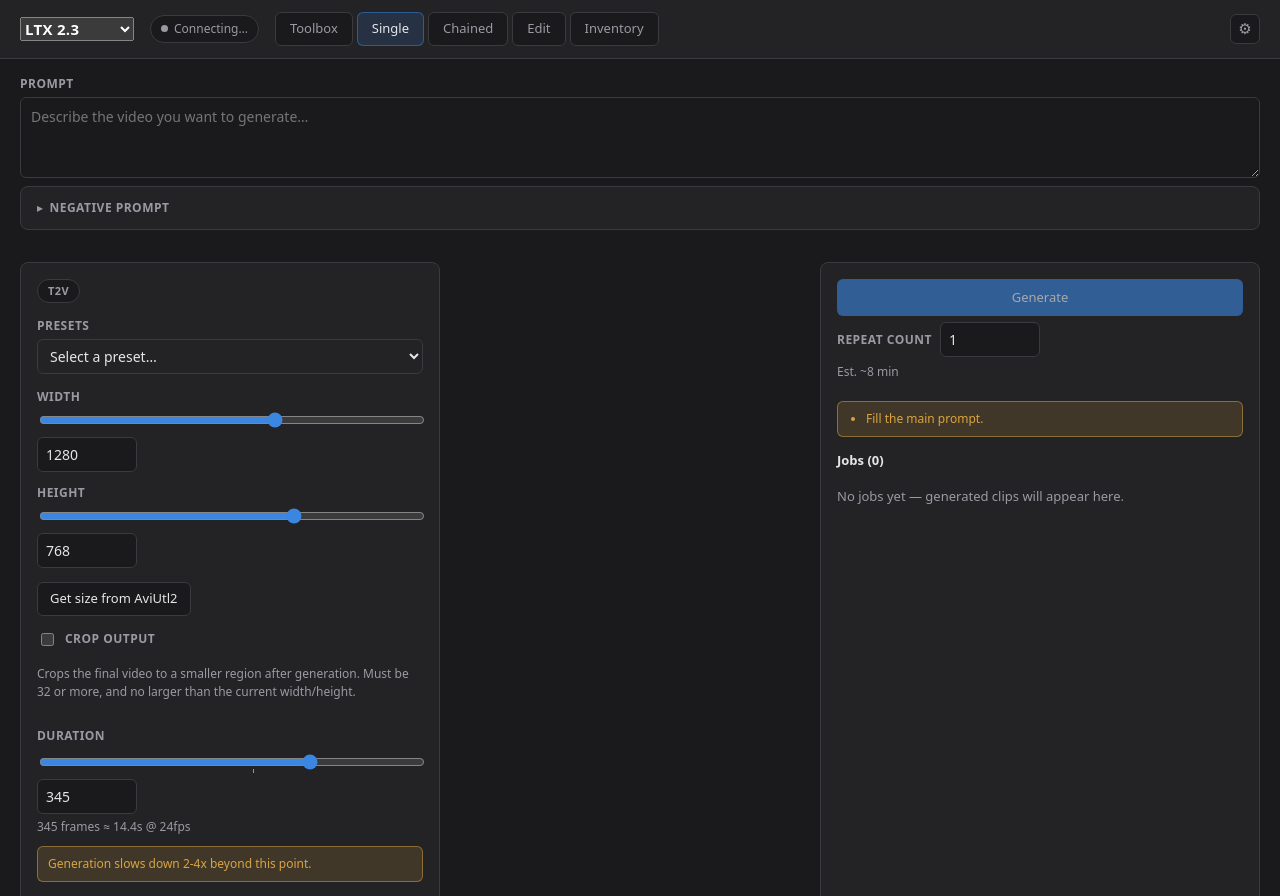
Test: App / Edit tab › shows the Edit panel (and only it) after clicking the Edit tab
The width and height of the screenshot is (1280, 896).
Expected: the button "Generate" is shown, [837,278,1243,316]
Click the tab "Edit" at (539, 29), box [512,12,566,46]
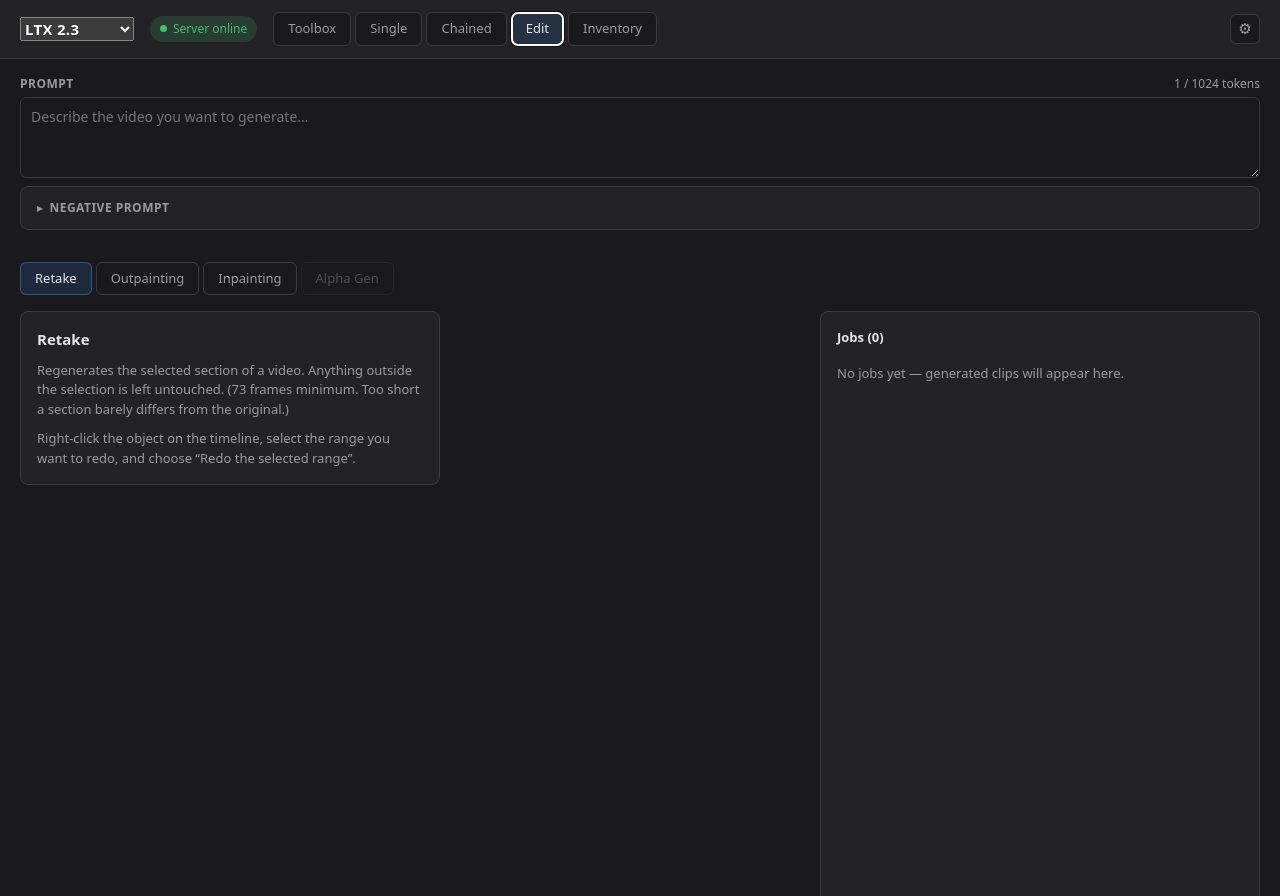
Result: the tab "Retake" is shown at [20,262,92,295]
Result: the tab "Outpainting" is shown at [96,262,199,295]
Result: the tab "Inpainting" is enabled at [203,262,296,295]
